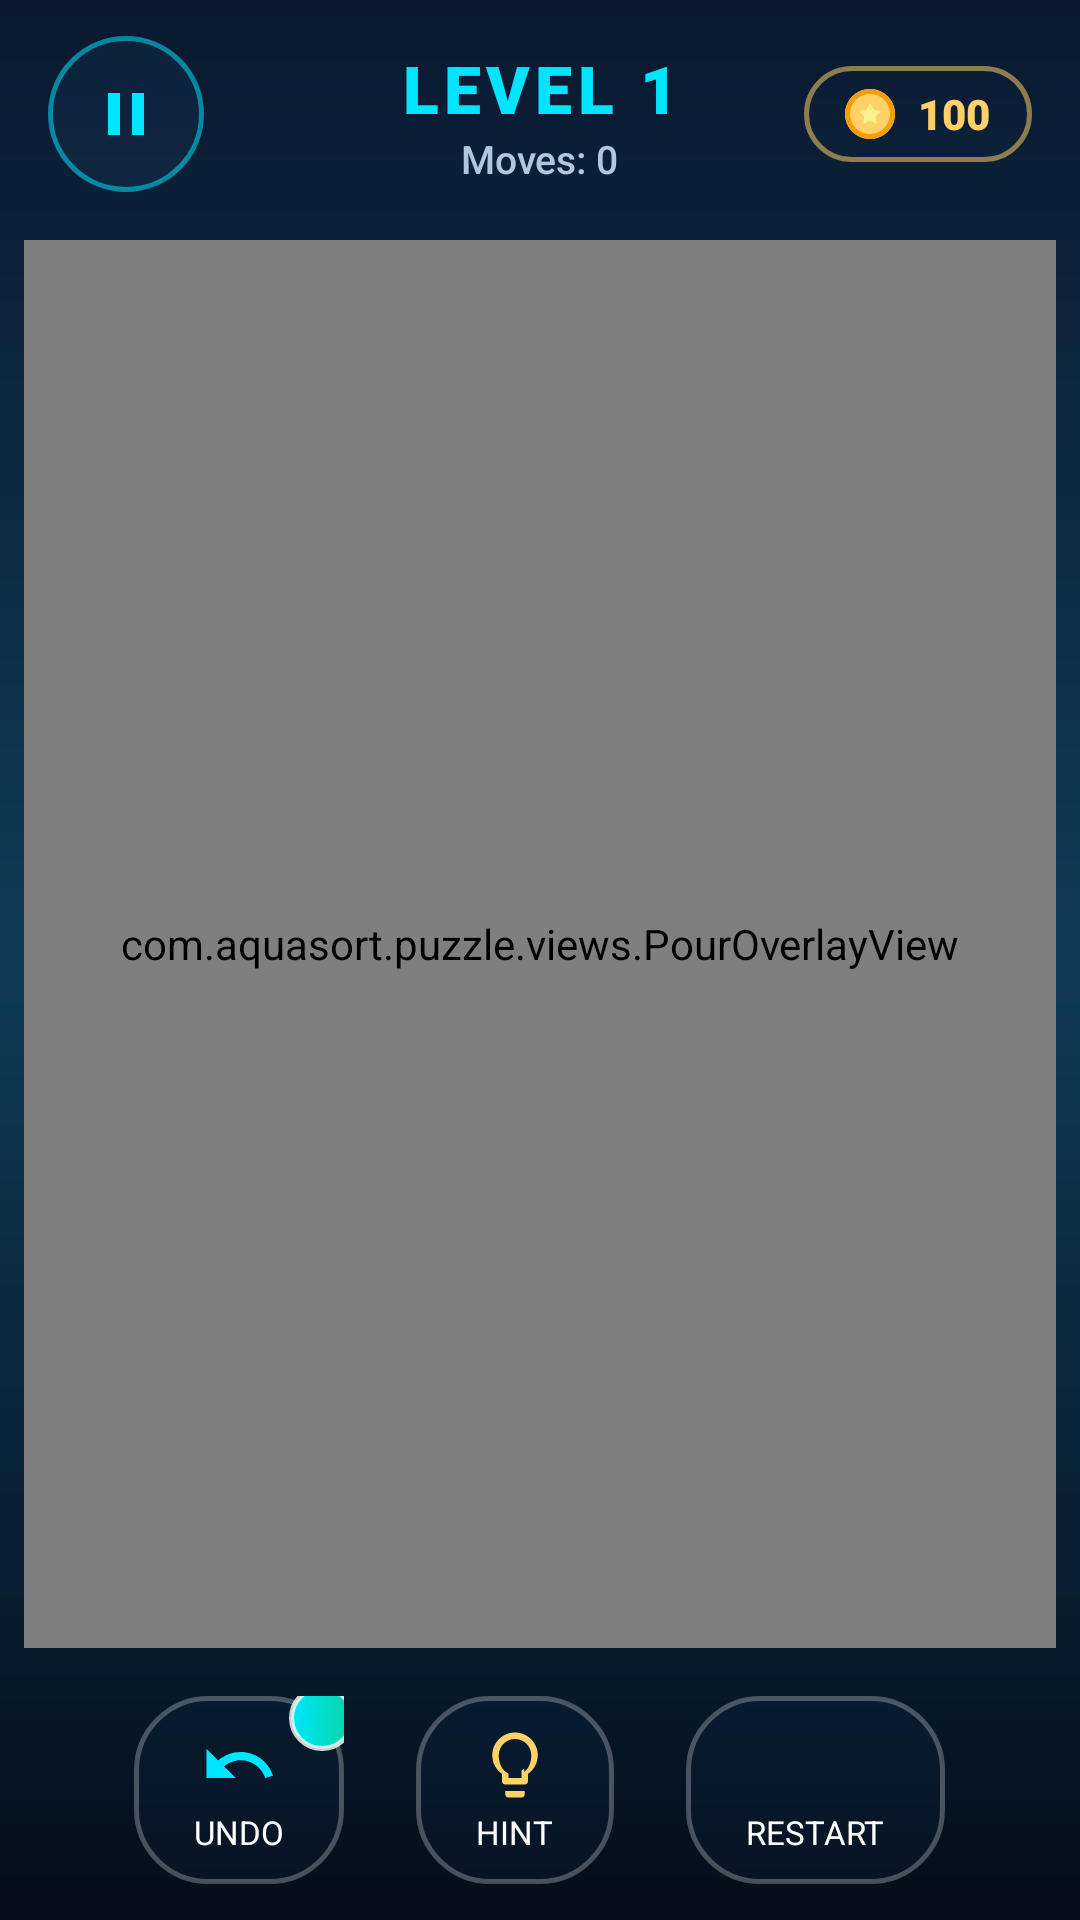

Icons on this 1080 x 1920 Android screen, each with its box as rect(x1, y1, x2, y2):
Coins: rect(845, 89, 895, 139)
Pause Game: rect(48, 36, 204, 192)
